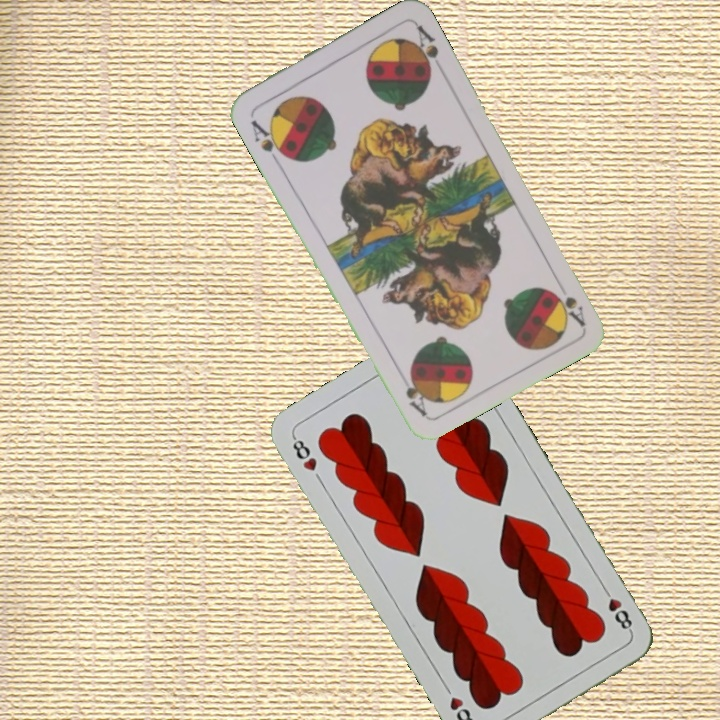H8: (598, 582, 635, 635), (288, 432, 320, 474)
SA: (247, 116, 290, 166), (546, 284, 588, 329)
